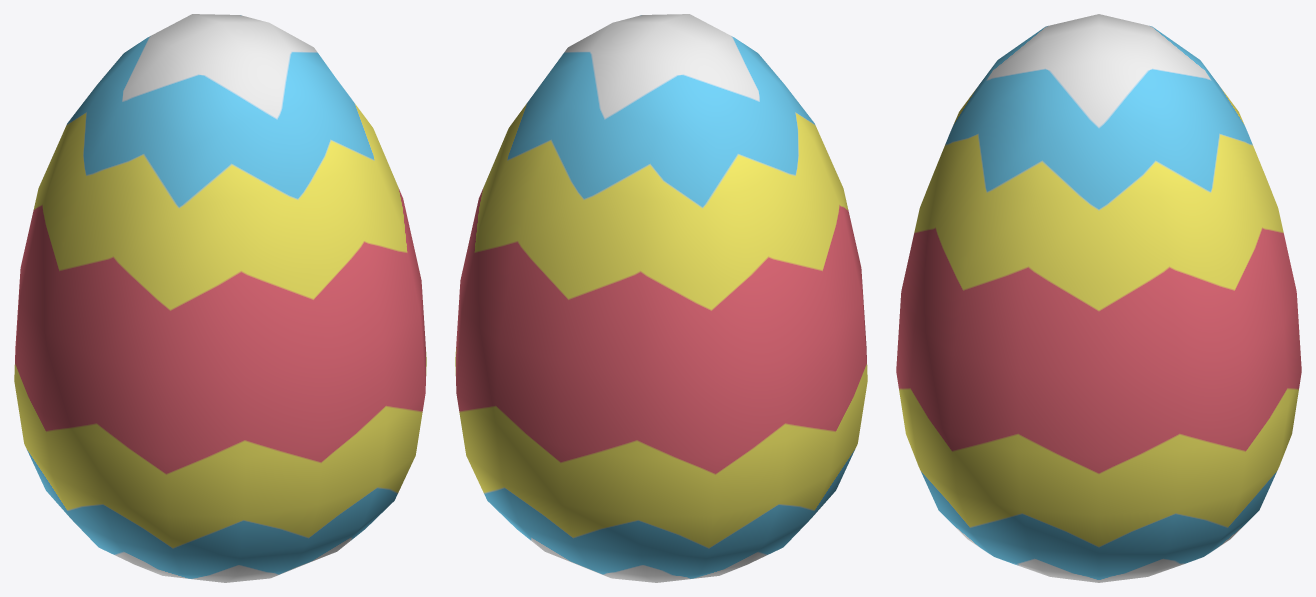
Rendered from EasterEgg.fbx.
3 views of the same model, side by side, from view 1: azimuth 30°, elevation 25°; view 2: azimuth 150°, elevation 25°; view 3: azimuth 270°, elevation 25° (orthographic).
Visible parts, largest first — view 1: pCube1; view 2: pCube1; view 3: pCube1.
Part boxes in pixels (left/top/right/bottom): pCube1: left=14, top=14, right=426, bottom=582; pCube1: left=455, top=14, right=867, bottom=582; pCube1: left=896, top=14, right=1301, bottom=582.
Bounding box in the file's own units: 0.0106 × 0.0155 × 0.0106.
